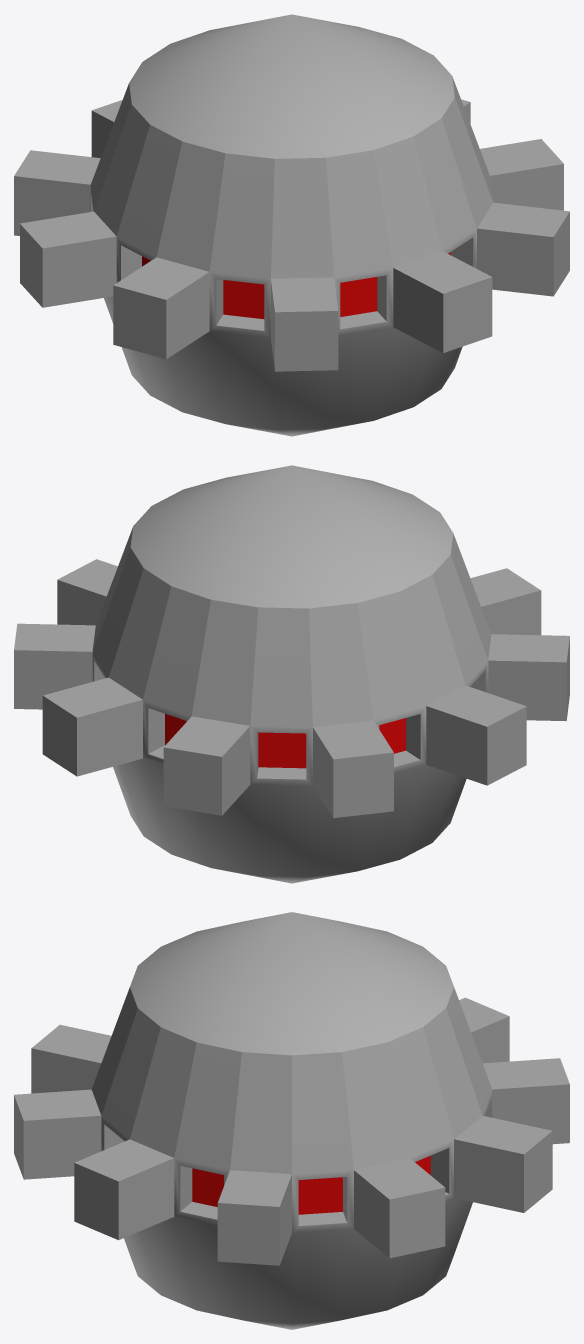
File: SpaceMine.fbx
3 renders of one model, top to bottom at view 1: azimuth 30°, elevation 25°; view 2: azimuth 150°, elevation 25°; view 3: azimuth 270°, elevation 25°, orthographic.
Visible parts, largest first — view 1: pSphere1; view 2: pSphere1; view 3: pSphere1.
Part boxes in pixels (x1=…): pSphere1: x1=14, y1=14, x2=569, y2=436; pSphere1: x1=14, y1=465, x2=569, y2=883; pSphere1: x1=14, y1=912, x2=569, y2=1329.
Size of the model in its own units: 2.77 by 2.3 by 2.77.
